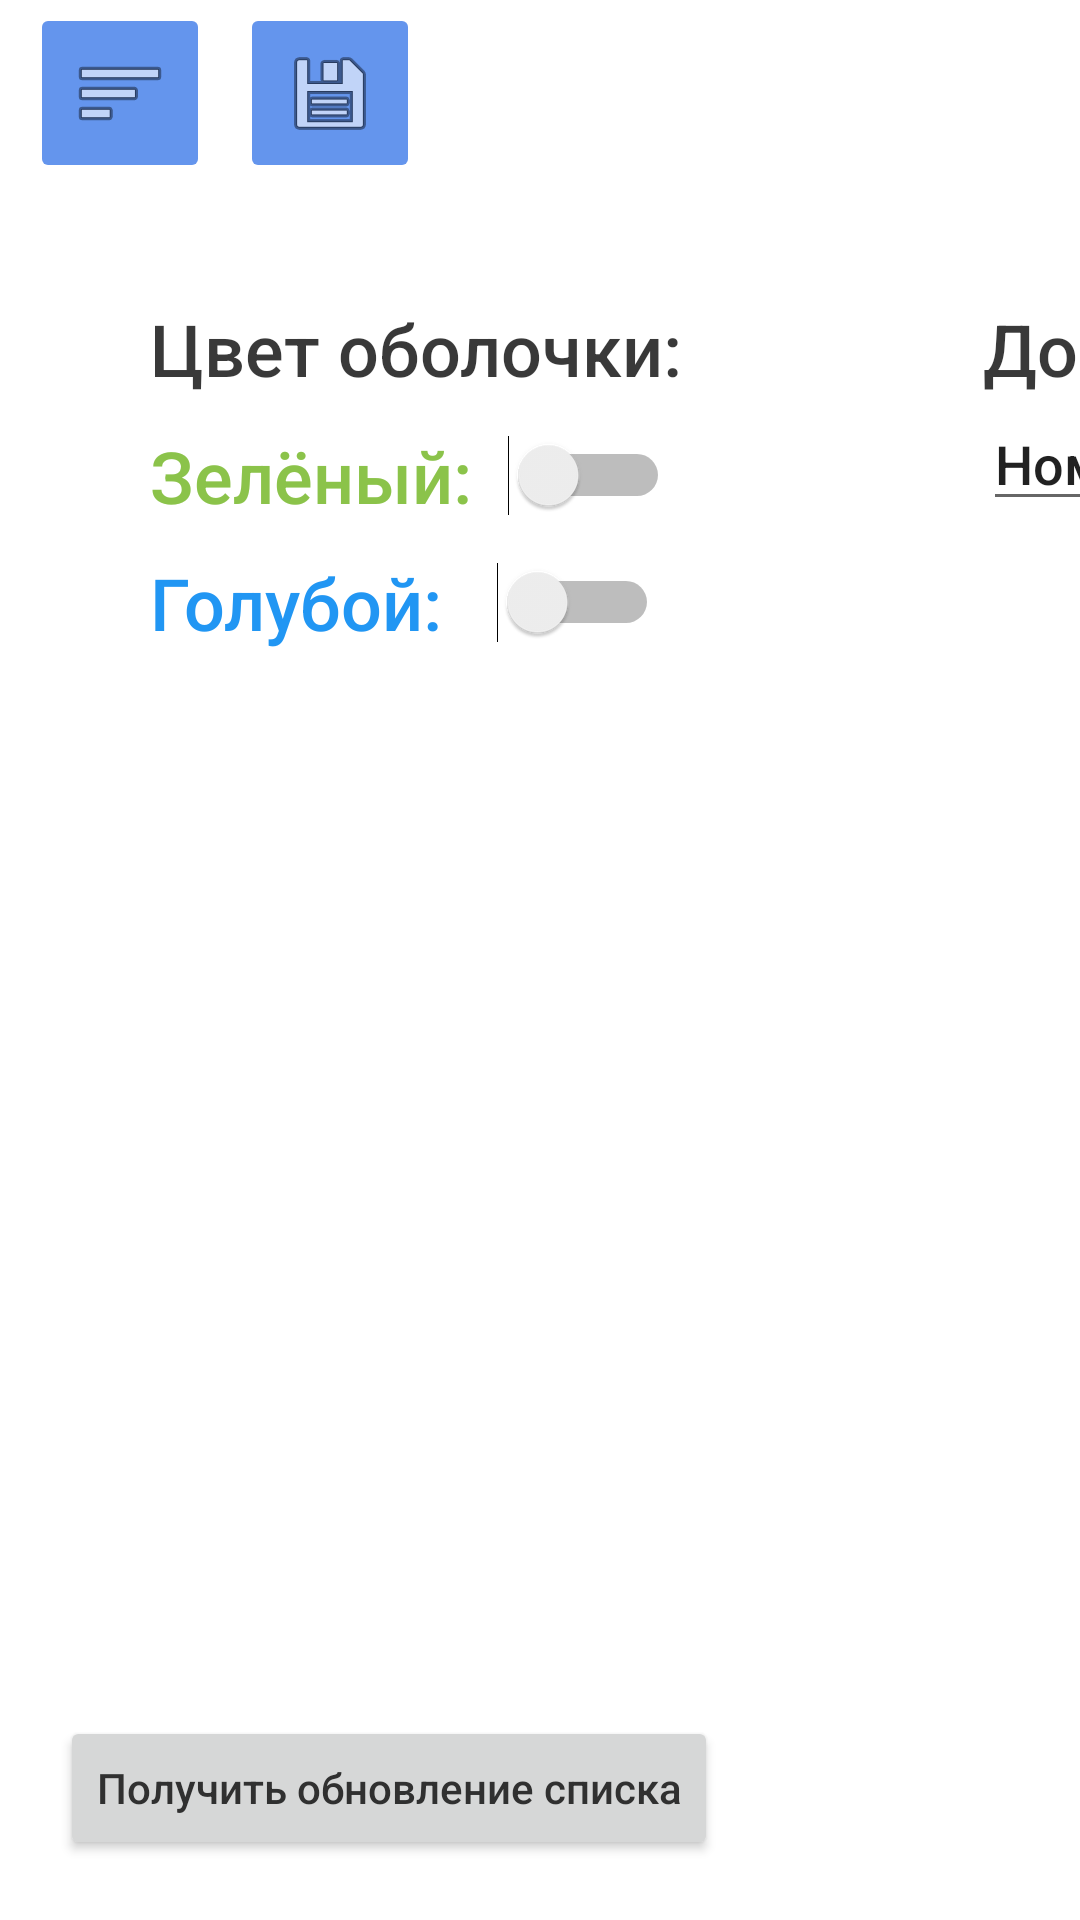

Where icons sit on this 1080px×1920px app screen, as (x1, y1, x2, y2):
save: (252, 21, 408, 165)
sort by size: (42, 21, 198, 165)
